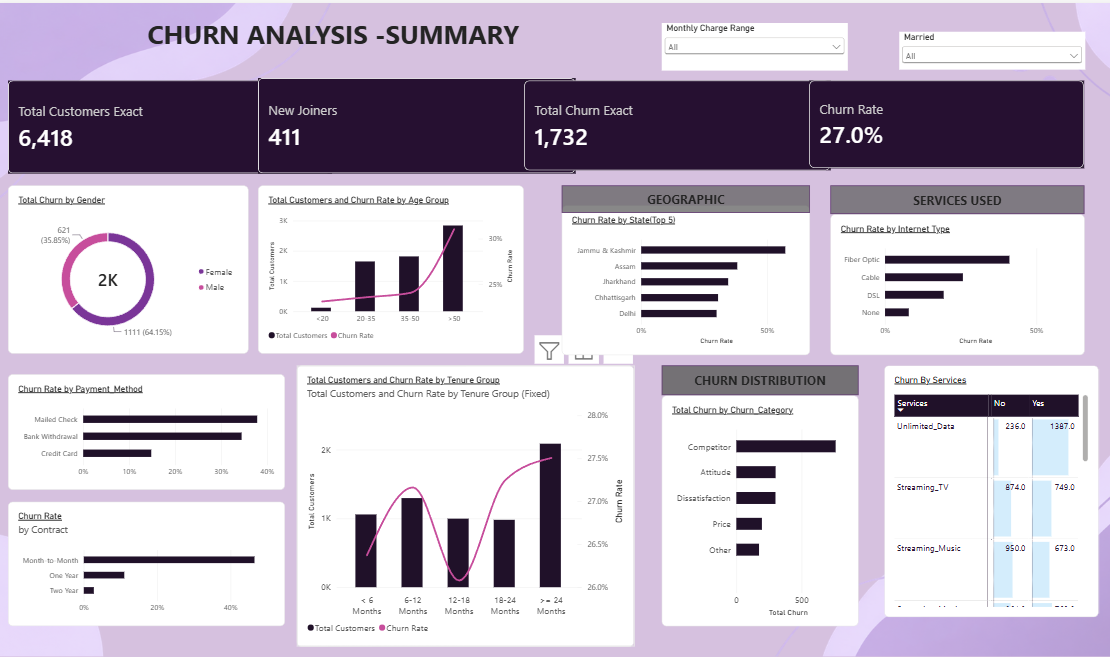

Layout of this report page (visuals, bound fields, positions):
{"tool":"powerbi","page":{"name":"summary","canvas":[1920,1080],"ordinal":0},"visuals":[{"type":"cardVisual","fields":{"Data":["db_churn prod_churn.Total Customers Exact"]},"box":[25.3,126.7,533.8,153.8],"z":0},{"type":"cardVisual","fields":{"Data":["tbl_Measures.New Joiners"]},"box":[436.1,123.1,523,157.4],"z":1000},{"type":"cardVisual","fields":{"Data":["db_churn prod_churn.Total Churn Exact"]},"box":[874.1,126.7,504.9,148.4],"z":2000},{"type":"cardVisual","fields":{"Data":["tbl_Measures.Churn Rate"]},"box":[1344.6,126.7,452.4,144.8],"z":3000},{"type":"donutChart","title":"Total Churn by Gender","fields":{"Category":["db_churn prod_churn.Gender"],"Y":["tbl_Measures.Total Churn"]},"box":[25.3,300.4,396.3,276.9],"z":4000},{"type":"lineStackedColumnComboChart","fields":{"Category":["mapping_AgeGrp.Age Group"],"Y":["tbl_Measures.Total Customers"],"Y2":["tbl_Measures.Churn Rate"]},"box":[436.1,300.4,437.9,276.9],"z":5000},{"type":"clusteredBarChart","fields":{"Category":["db_churn prod_churn.Payment_Method"],"Y":["tbl_Measures.Churn Rate"]},"box":[25.3,611.7,456,190],"z":6000},{"type":"clusteredBarChart","fields":{"Category":["db_churn prod_churn.Contract"],"Y":["tbl_Measures.Churn Rate"]},"box":[25.3,821.6,456,204.5],"z":7000},{"type":"lineStackedColumnComboChart","title":"Total Customers and Churn Rate by Tenure Group","fields":{"Category":["db_churn prod_churn.Tenure Group (Fixed)"],"Y":["tbl_Measures.Total Customers"],"Y2":["tbl_Measures.Churn Rate"]},"box":[499.5,597.2,555.6,463.3],"z":8000},{"type":"clusteredBarChart","title":"Churn Rate by State(Top 5)","fields":{"Category":["db_churn prod_churn.State"],"Y":["tbl_Measures.Churn Rate"]},"box":[935.6,333,409,246.1],"z":9000},{"type":"clusteredBarChart","fields":{"Category":["db_churn prod_churn.Churn_Category"],"Y":["tbl_Measures.Total Churn"]},"box":[1102.1,646,323.9,380],"z":10000},{"type":"clusteredBarChart","title":"Churn Rate by Internet Type","fields":{"Category":["db_churn prod_churn.Internet Type Display"],"Y":["tbl_Measures.Churn Rate"]},"box":[1379,347.5,418,231.6],"z":11000},{"type":"pivotTable","title":"Churn By Services","fields":{"Columns":["prod_Services.Status"],"Rows":["prod_Services.Services"],"Values":["Sum(prod_Services.Churn Status)"]},"box":[1467.6,597.2,352.9,414.4],"z":12000},{"type":"slicer","fields":{"Values":["db_churn prod_churn.Monthly Charge Status"]},"box":[1102.1,32.6,306,78],"z":13000},{"type":"slicer","fields":{"Values":["db_churn prod_churn.Married"]},"box":[1492,48,306,62],"z":14000},{"type":"textbox","box":[45.2,19.9,1029.7,106.8],"z":15000},{"type":"shape","box":[1379,300.4,418,47.1],"z":16000},{"type":"shape","box":[935.6,300.4,409,45.2],"z":17000},{"type":"shape","box":[1102.1,597.2,323.9,48.9],"z":18000}]}

Visuals, with their boxes on the page's 1920x1080 design canvas (x1, y1, x2, y2). These are canvas units, not pixel positions in the 1110x657 screenshot, which may show the page scaled, cropped or inside an application window:
cardVisual - db_churn prod_churn.Total Customers Exact: 25, 127, 559, 280
cardVisual - tbl_Measures.New Joiners: 436, 123, 959, 280
cardVisual - db_churn prod_churn.Total Churn Exact: 874, 127, 1379, 275
cardVisual - tbl_Measures.Churn Rate: 1345, 127, 1797, 272
"Total Churn by Gender" donutChart: 25, 300, 422, 577
lineStackedColumnComboChart - mapping_AgeGrp.Age Group x tbl_Measures.Total Customers: 436, 300, 874, 577
clusteredBarChart - db_churn prod_churn.Payment_Method x tbl_Measures.Churn Rate: 25, 612, 481, 802
clusteredBarChart - db_churn prod_churn.Contract x tbl_Measures.Churn Rate: 25, 822, 481, 1026
"Total Customers and Churn Rate by Tenure Group" lineStackedColumnComboChart: 500, 597, 1055, 1060
"Churn Rate by State(Top 5)" clusteredBarChart: 936, 333, 1345, 579
clusteredBarChart - db_churn prod_churn.Churn_Category x tbl_Measures.Total Churn: 1102, 646, 1426, 1026
"Churn Rate by Internet Type" clusteredBarChart: 1379, 348, 1797, 579
"Churn By Services" pivotTable: 1468, 597, 1820, 1012
slicer - db_churn prod_churn.Monthly Charge Status: 1102, 33, 1408, 111
slicer - db_churn prod_churn.Married: 1492, 48, 1798, 110
textbox: 45, 20, 1075, 127
shape: 1379, 300, 1797, 348
shape: 936, 300, 1345, 346
shape: 1102, 597, 1426, 646
